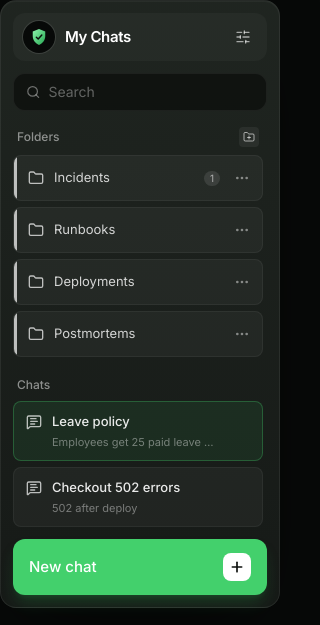
Test: Sidebar › searches titles and message content
The image size is (320, 625).
Step 1. Type "after deploy" into the field with placeholder "Search" → point(151, 92), box 48,82 -> 254,102
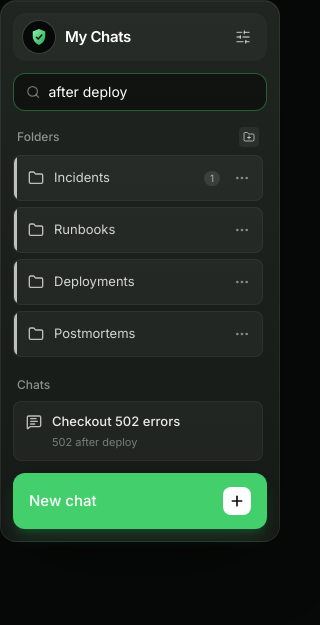
Step 2. Replace the text in the field with placeholder "Search" with "nothing matches" → point(151, 92), box 48,82 -> 254,102
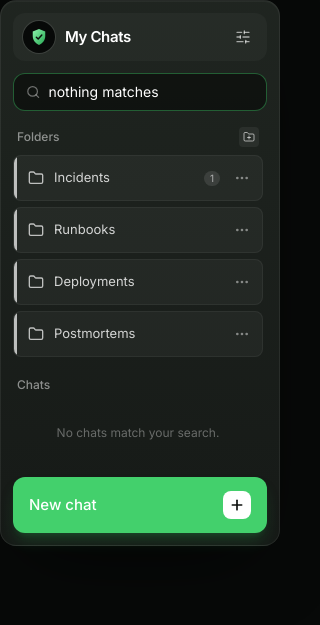
Check: the text "No chats match your search." is shown, box 57,425 -> 219,440
